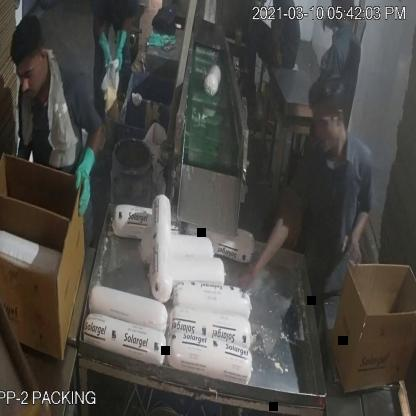glove: (70, 143, 102, 214), (113, 23, 128, 77), (97, 33, 113, 76)
no_glove: (231, 181, 304, 308), (340, 203, 374, 281)
